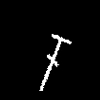double_crochet: (40, 34, 70, 90)
